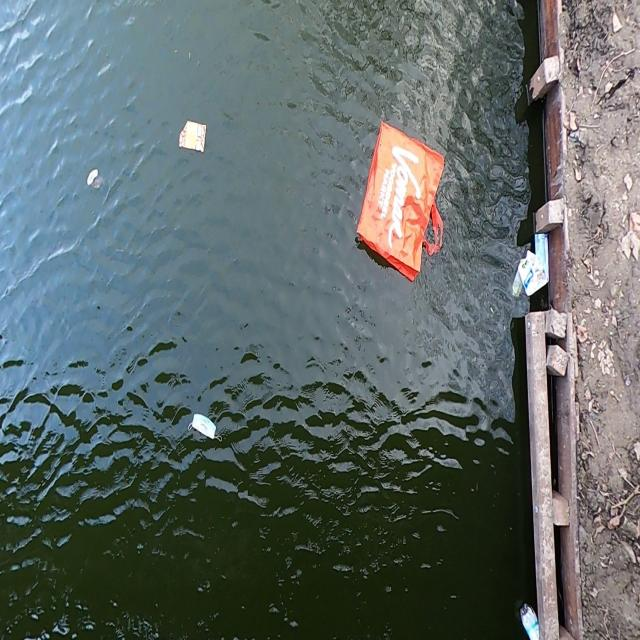Autre plastique: (175, 117, 209, 163)
Non plastique: (185, 409, 226, 449), (81, 166, 107, 194)
Sac plastique: (351, 114, 450, 288)
